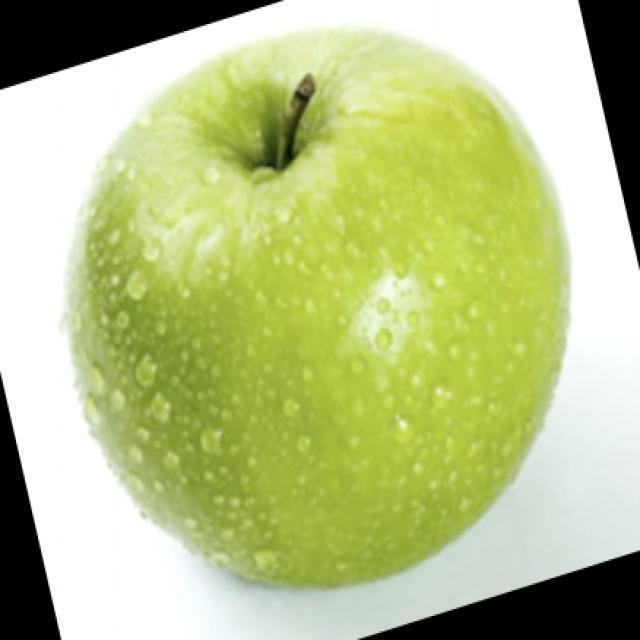Fresh Apple: (80, 45, 548, 597)
